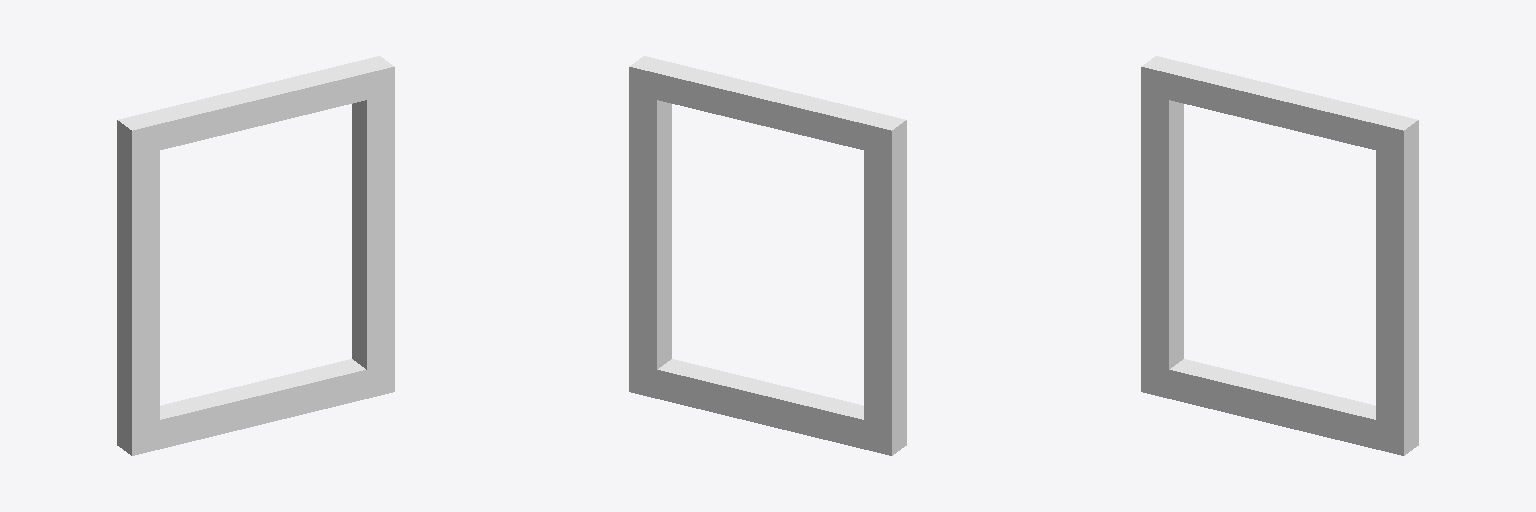
Rendered from BoxSelect.obj.
The picture shows the model from 3 angles: view 1: azimuth 30°, elevation 25°; view 2: azimuth 150°, elevation 25°; view 3: azimuth 330°, elevation 25°; orthographic projection.
Bounding box in the file's own units: 103 × 122 × 10.